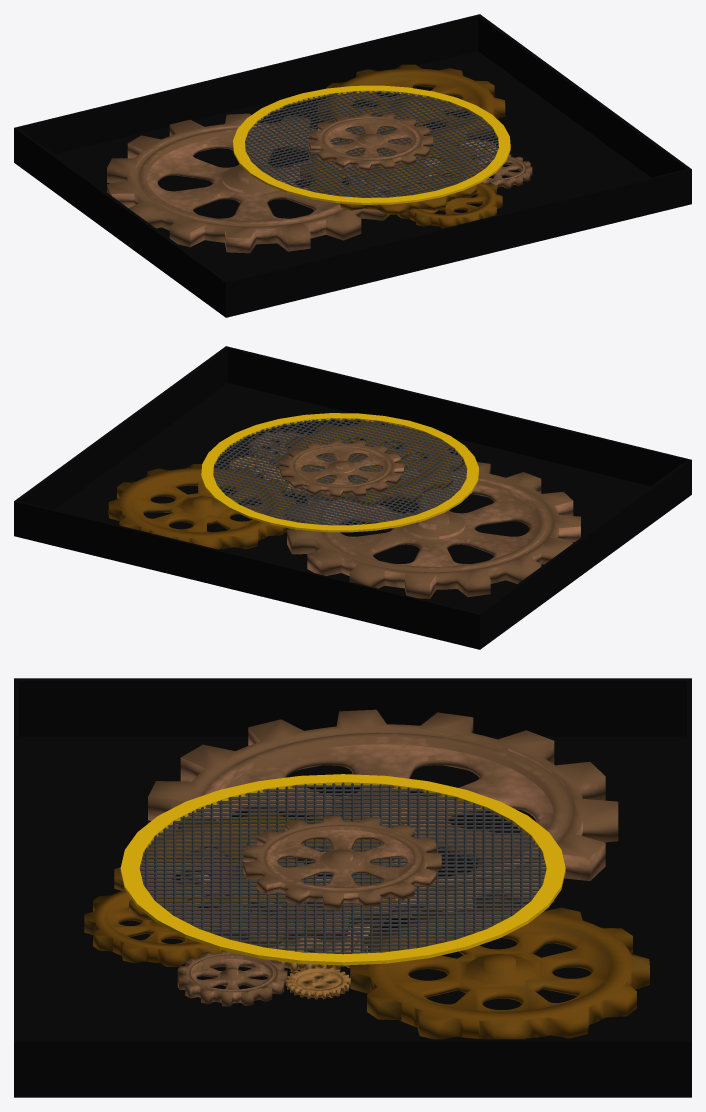
File: Floor detail under planetarium .glb
The picture shows the model from 3 angles, top to bottom: view 1: azimuth 30°, elevation 25°; view 2: azimuth 150°, elevation 25°; view 3: azimuth 270°, elevation 25°; orthographic projection. The views are drawn at different scales.
Parts seen in each view (by area): view 1: Plane.001, Gear 4.001, Plane, Gear 5.001, Circle.008, Gear 4.002, Gear 5.002, Gear 5, Gear 4; view 2: Plane.001, Gear 4.001, Plane, Gear 5.001, Circle.008, Gear 4.002, Gear 5.002, Gear 4; view 3: Plane.001, Plane, Gear 4.001, Gear 5.001, Circle.008, Gear 4.002, Gear 5.002, Gear 5, Gear 4, Gear.001, Gear.
Boxes of the visible parts, left/top/right/bottom form: Plane.001: left=14, top=14, right=691, bottom=317; Gear 4.001: left=107, top=113, right=389, bottom=253; Plane: left=245, top=91, right=498, bottom=197; Gear 5.001: left=317, top=64, right=505, bottom=145; Circle.008: left=233, top=85, right=510, bottom=204; Gear 4.002: left=309, top=112, right=432, bottom=171; Gear 5.002: left=300, top=129, right=486, bottom=214; Gear 5: left=397, top=174, right=502, bottom=228; Gear 4: left=476, top=153, right=532, bottom=188; Plane.001: left=14, top=346, right=691, bottom=649; Gear 4.001: left=287, top=459, right=580, bottom=598; Plane: left=213, top=418, right=467, bottom=525; Gear 5.001: left=108, top=464, right=295, bottom=549; Circle.008: left=201, top=413, right=478, bottom=532; Gear 4.002: left=280, top=439, right=403, bottom=498; Gear 5.002: left=275, top=421, right=461, bottom=505; Gear 4: left=249, top=430, right=307, bottom=463; Plane.001: left=14, top=678, right=691, bottom=1097; Plane: left=139, top=782, right=546, bottom=954; Gear 4.001: left=148, top=709, right=618, bottom=931; Gear 5.001: left=350, top=902, right=649, bottom=1039; Circle.008: left=120, top=774, right=565, bottom=965; Gear 4.002: left=243, top=815, right=441, bottom=909; Gear 5.002: left=114, top=811, right=397, bottom=947; Gear 5: left=84, top=879, right=260, bottom=966; Gear 4: left=177, top=950, right=287, bottom=1006; Gear.001: left=286, top=966, right=350, bottom=999; Gear: left=265, top=923, right=369, bottom=972.
Bounding box in the file's own units: 147 × 13.55 × 115.
Materials: 6 (6 with a texture image).
